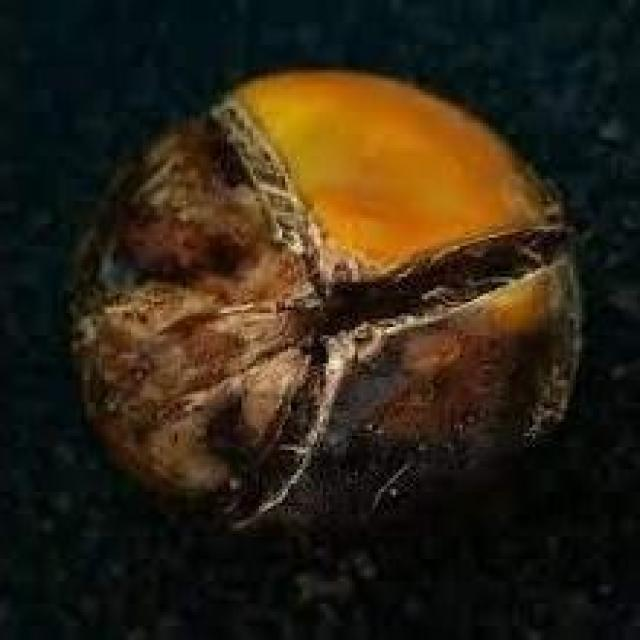damaged: (70, 70, 579, 531)
